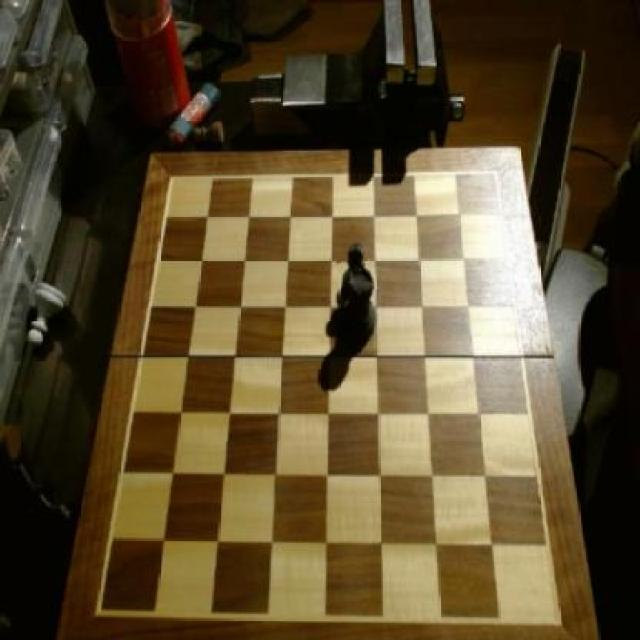black-knight: (337, 246, 372, 300)
black-queen: (340, 272, 380, 351)
